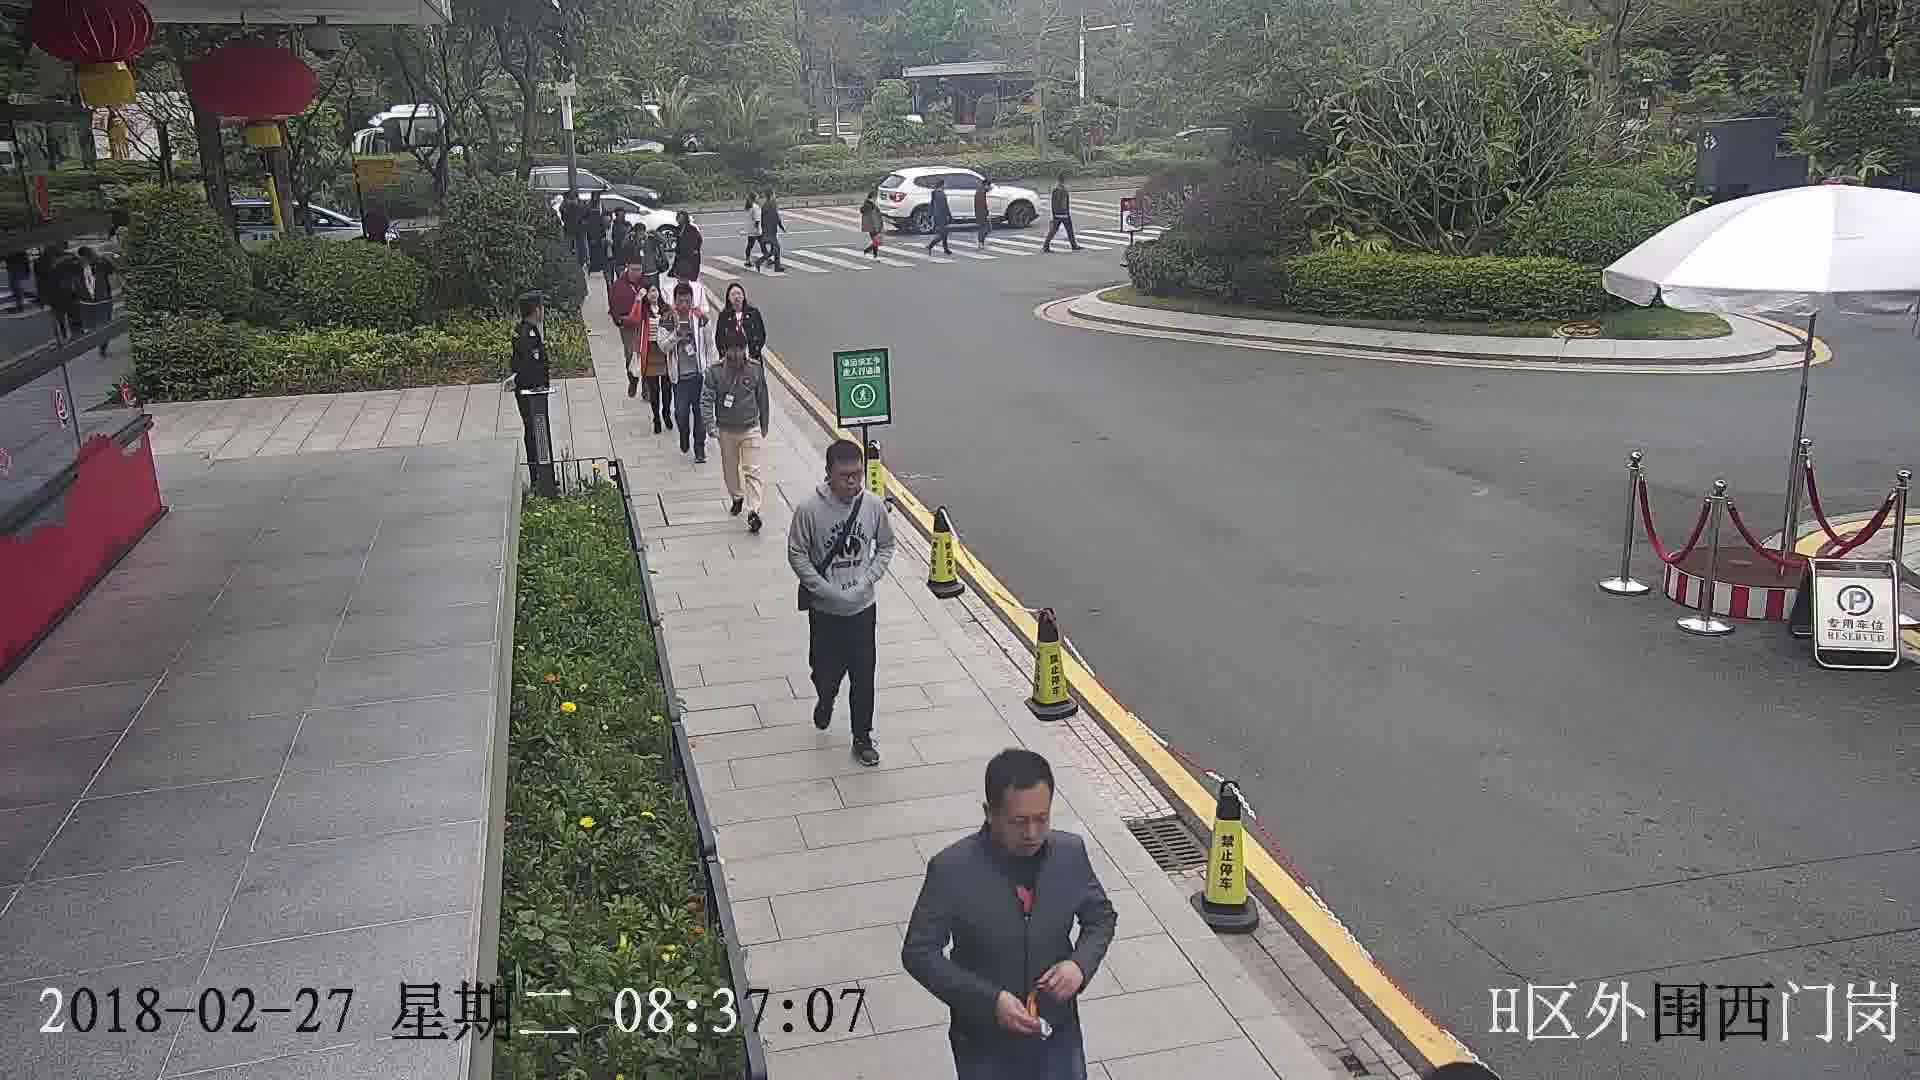face: (982, 782, 1056, 857), (828, 452, 863, 502)
person: (920, 744, 1094, 927), (795, 435, 886, 531), (708, 332, 764, 382), (714, 280, 763, 325), (665, 279, 707, 330), (511, 292, 551, 342), (615, 257, 648, 293), (641, 280, 671, 317), (672, 207, 700, 239), (973, 174, 994, 204), (932, 174, 953, 204), (625, 221, 648, 249), (752, 186, 775, 211), (607, 205, 628, 228), (584, 198, 605, 222), (864, 184, 884, 210), (1050, 172, 1070, 194)
